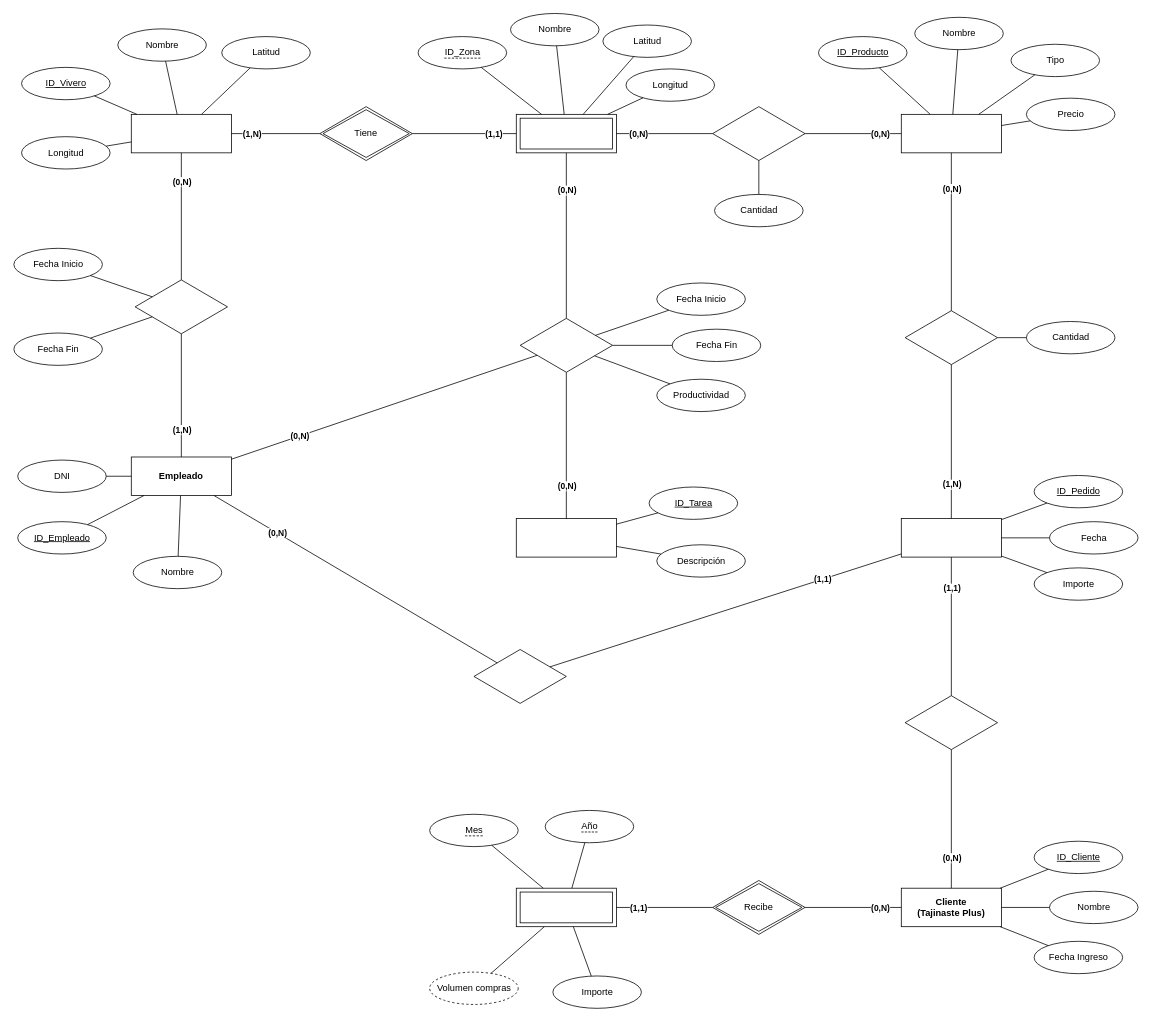
Image size: 1151x1022. Some labels were removed from this diagram. Each missing label, with the centre of its shape:
Bonificación: (566,907)
Contiene: (951,337)
Desempeña: (566,345)
Destinado: (181,306)
Gestiona: (519,676)
Pedido: (951,537)
Producto: (951,133)
Realiza: (951,722)
Stock: (758,133)
Tarea / Puesto: (566,537)
Vivero: (181,133)
Zona: (566,133)
